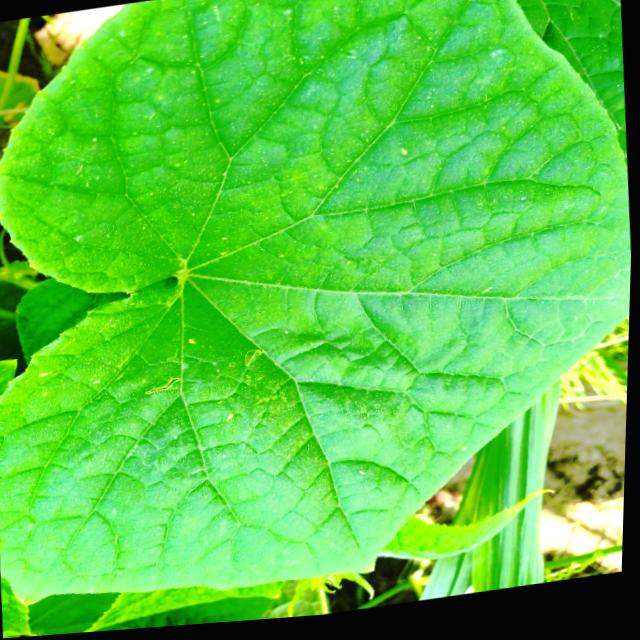Fresh-Leaf: (0, 0, 631, 606)
